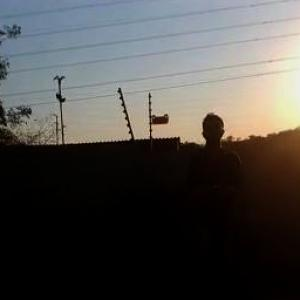follow: (183, 108, 251, 299)
